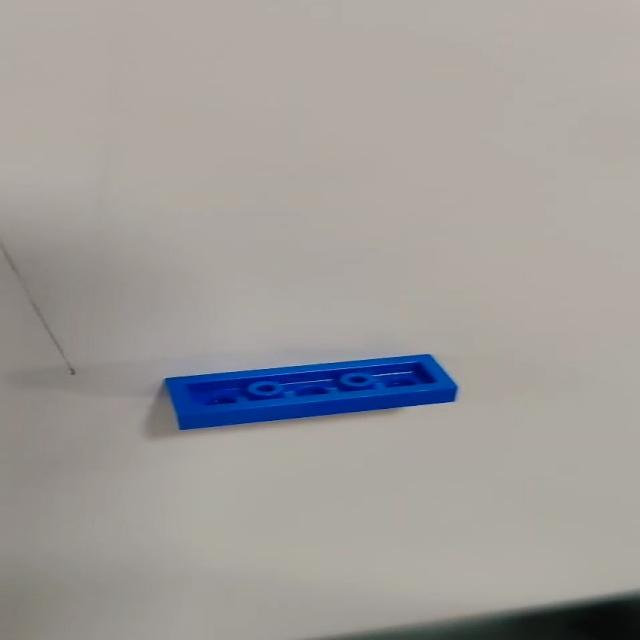C3x1x0: (169, 354, 458, 432)
